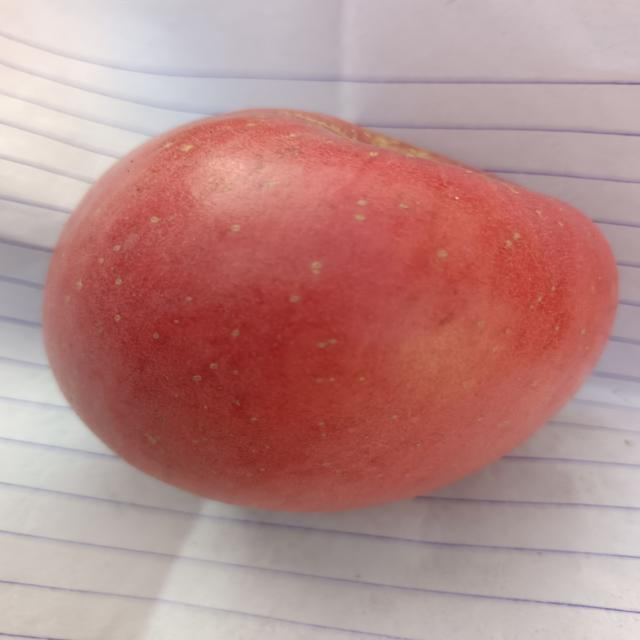Fresh Apple: (58, 110, 602, 503)
